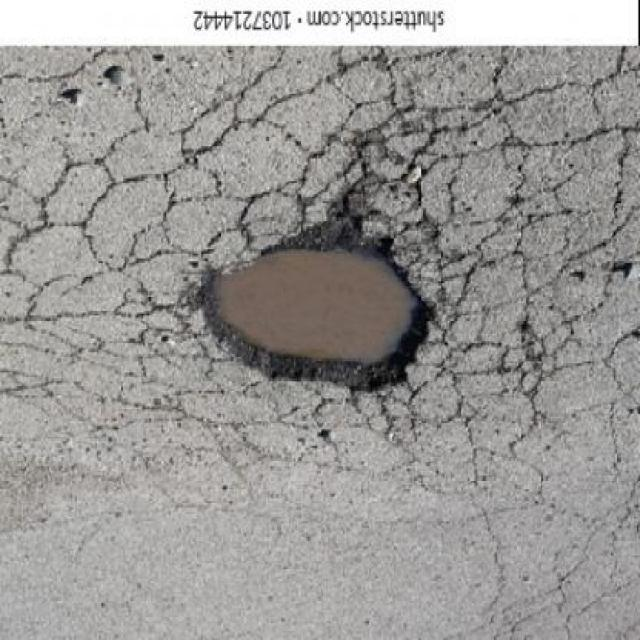pothole: (152, 194, 457, 430)
